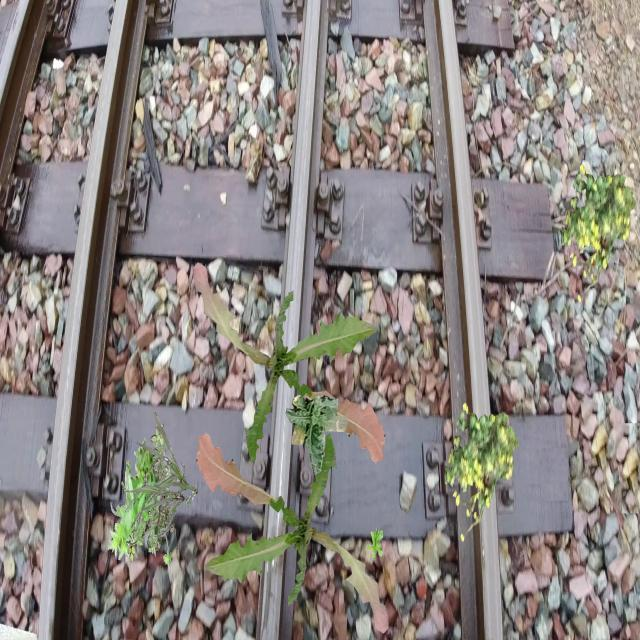Plant: (193, 262, 386, 464), (196, 431, 388, 634), (562, 164, 637, 304), (445, 403, 520, 543), (108, 424, 172, 568), (125, 412, 198, 536), (126, 424, 174, 562), (285, 395, 348, 478), (366, 528, 384, 560)
